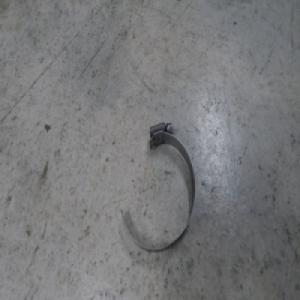AdjustableClamp: (120, 121, 196, 251)
